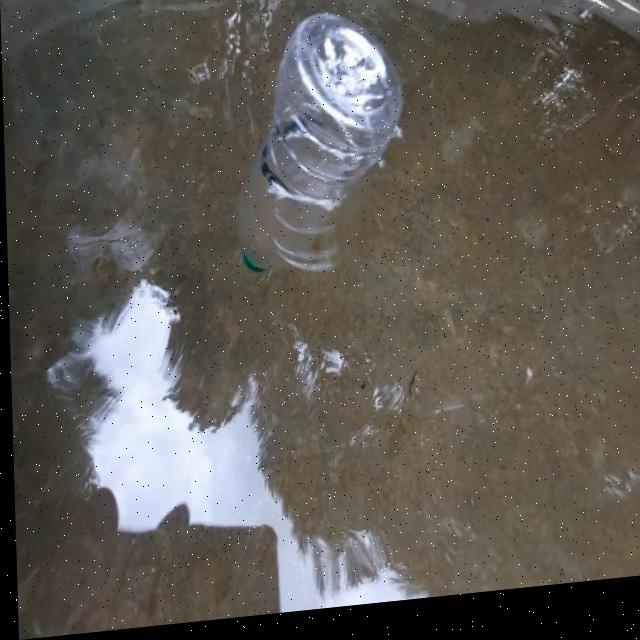waterbottle: (231, 1, 410, 290)
